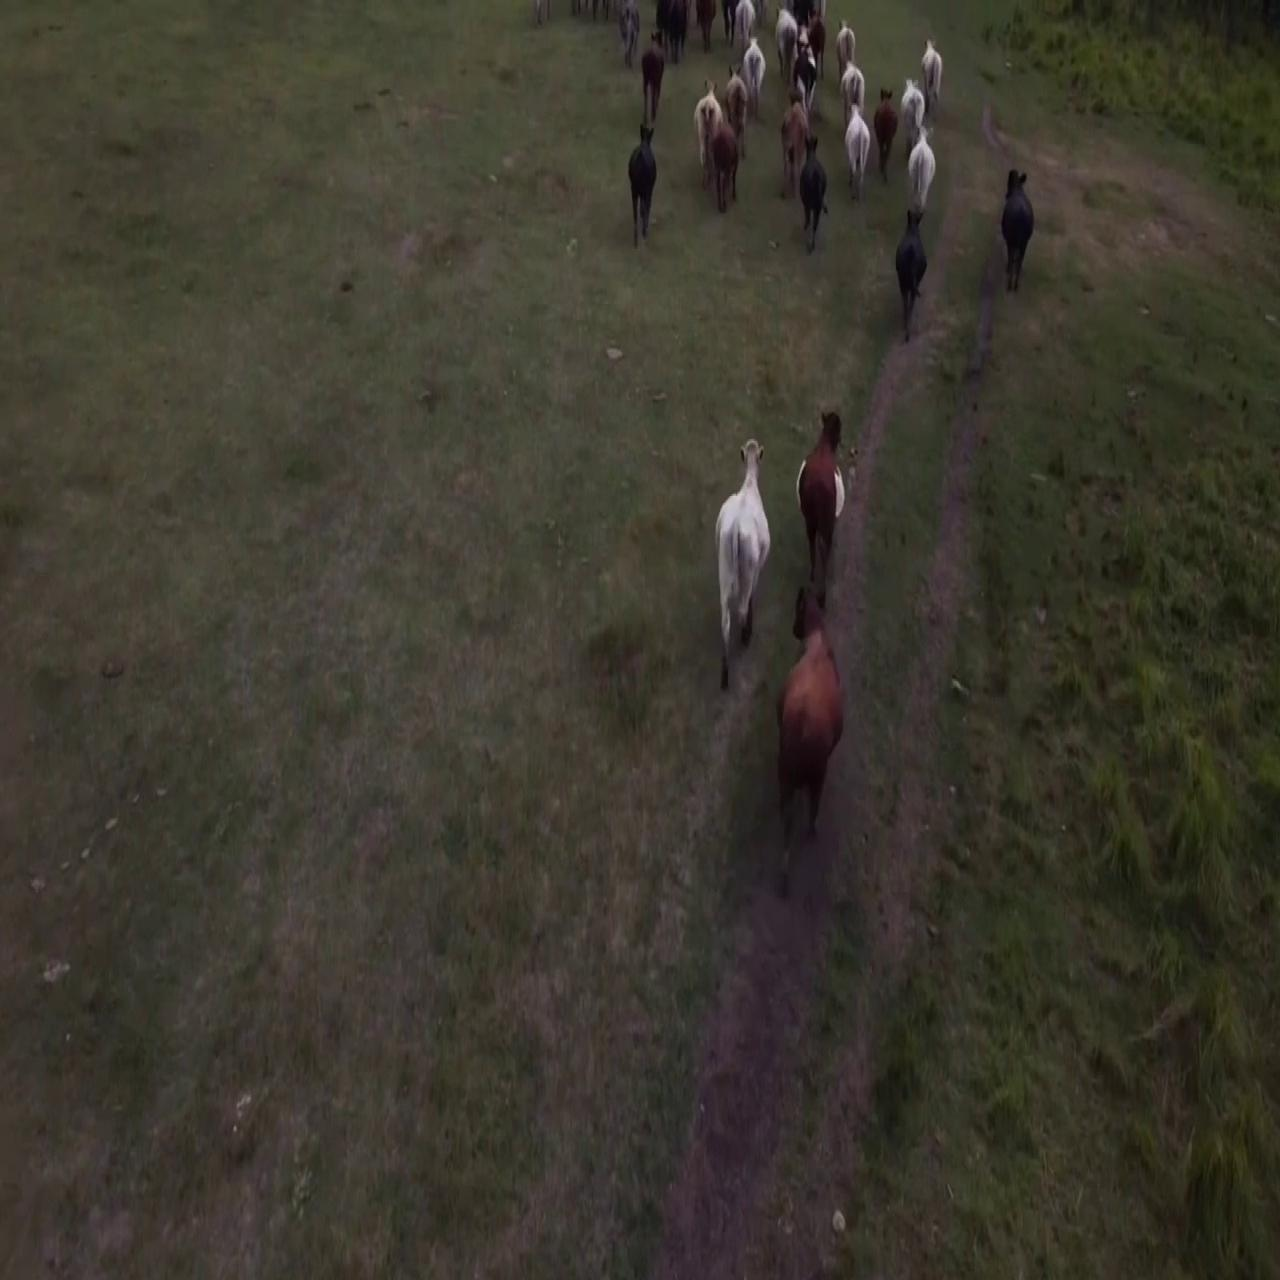cow: (775, 620, 853, 844), (709, 437, 771, 654), (797, 428, 849, 585), (792, 116, 832, 263), (995, 168, 1035, 294), (893, 203, 932, 333), (771, 91, 809, 211), (624, 129, 659, 251), (908, 121, 942, 222), (714, 120, 749, 217), (636, 40, 668, 138), (843, 96, 871, 205), (656, 0, 694, 68), (696, 79, 722, 173), (901, 72, 930, 158), (872, 83, 897, 175), (726, 55, 748, 154), (918, 32, 946, 108), (745, 35, 771, 116), (774, 2, 799, 82), (837, 62, 872, 114), (835, 16, 860, 73)
